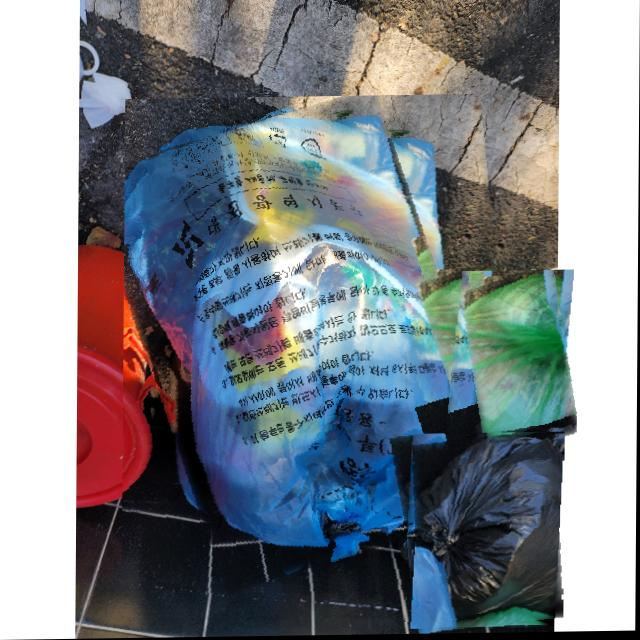general_trashbag: (125, 96, 520, 593), (457, 272, 577, 464)
other_trashbag: (412, 434, 563, 635)
